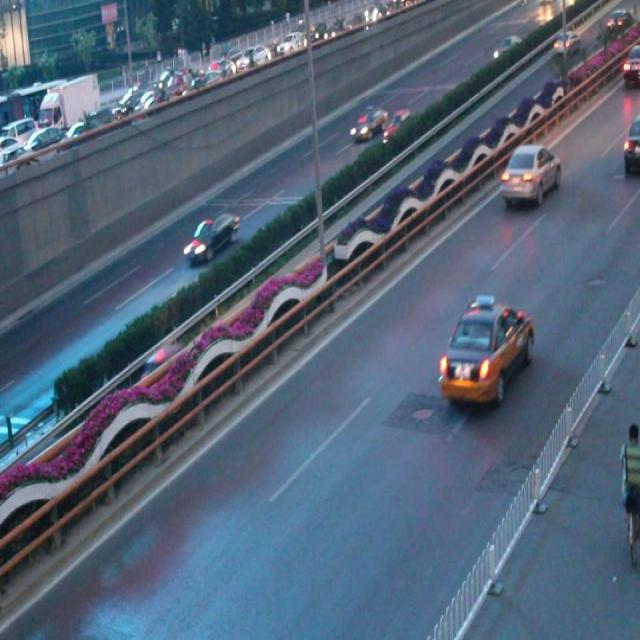car: (439, 294, 532, 410), (500, 142, 561, 205), (181, 212, 240, 262), (142, 342, 187, 381), (349, 106, 386, 141), (378, 108, 412, 143)
